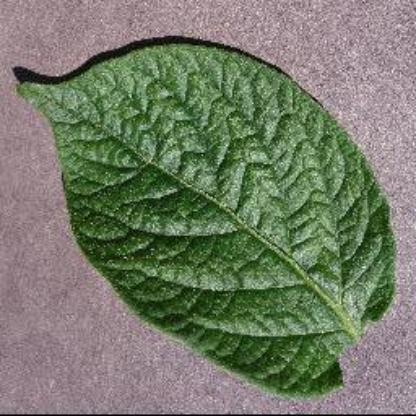Healthy-plant: (15, 40, 402, 404)
